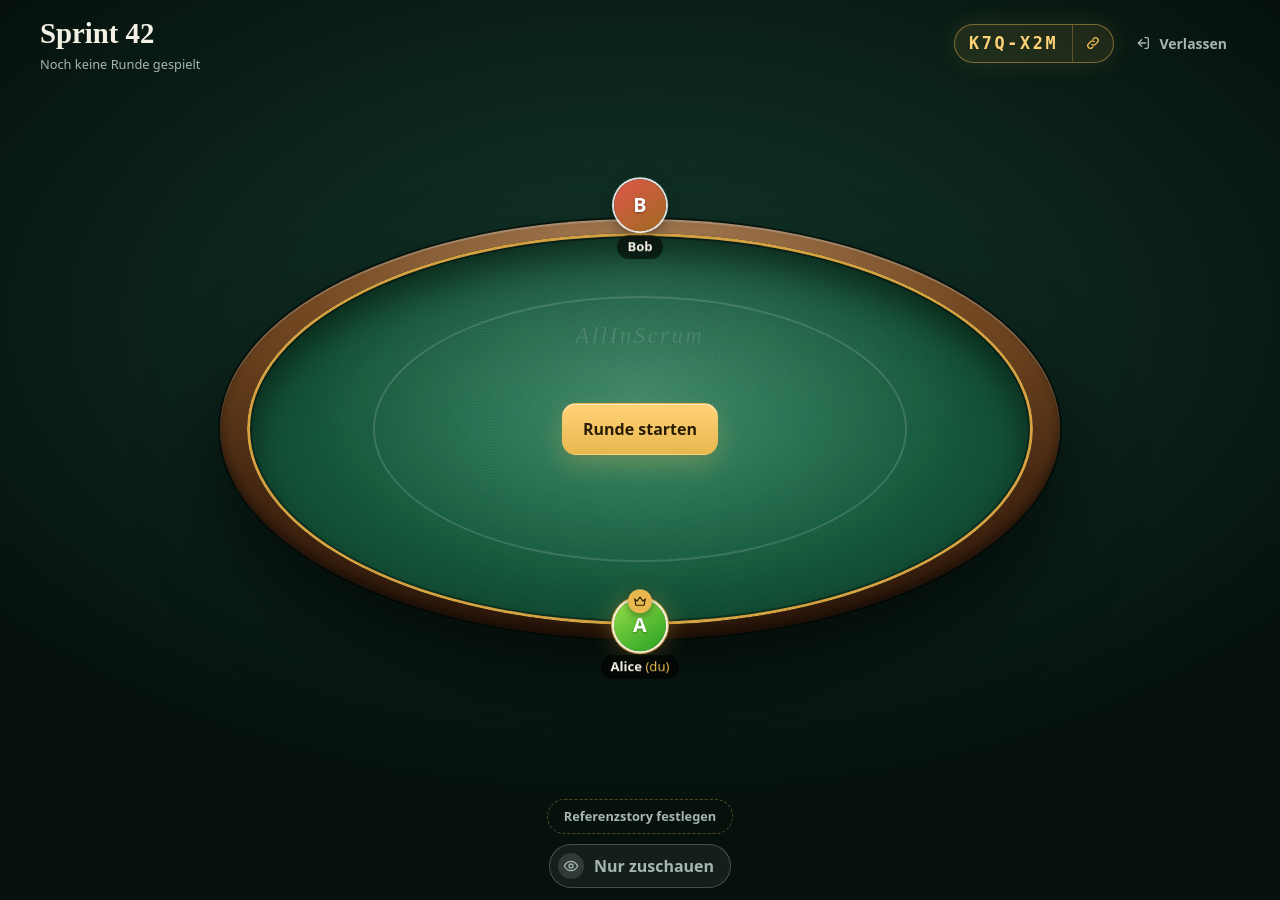
Test: Pokertisch › Einladen › kopiert den Join-Code auch über eine unverschlüsselte Verbindung im LAN
Click the button named "Join-Code K7Q-X2M kopieren" at point(1014, 43), box [955,25,1072,62]
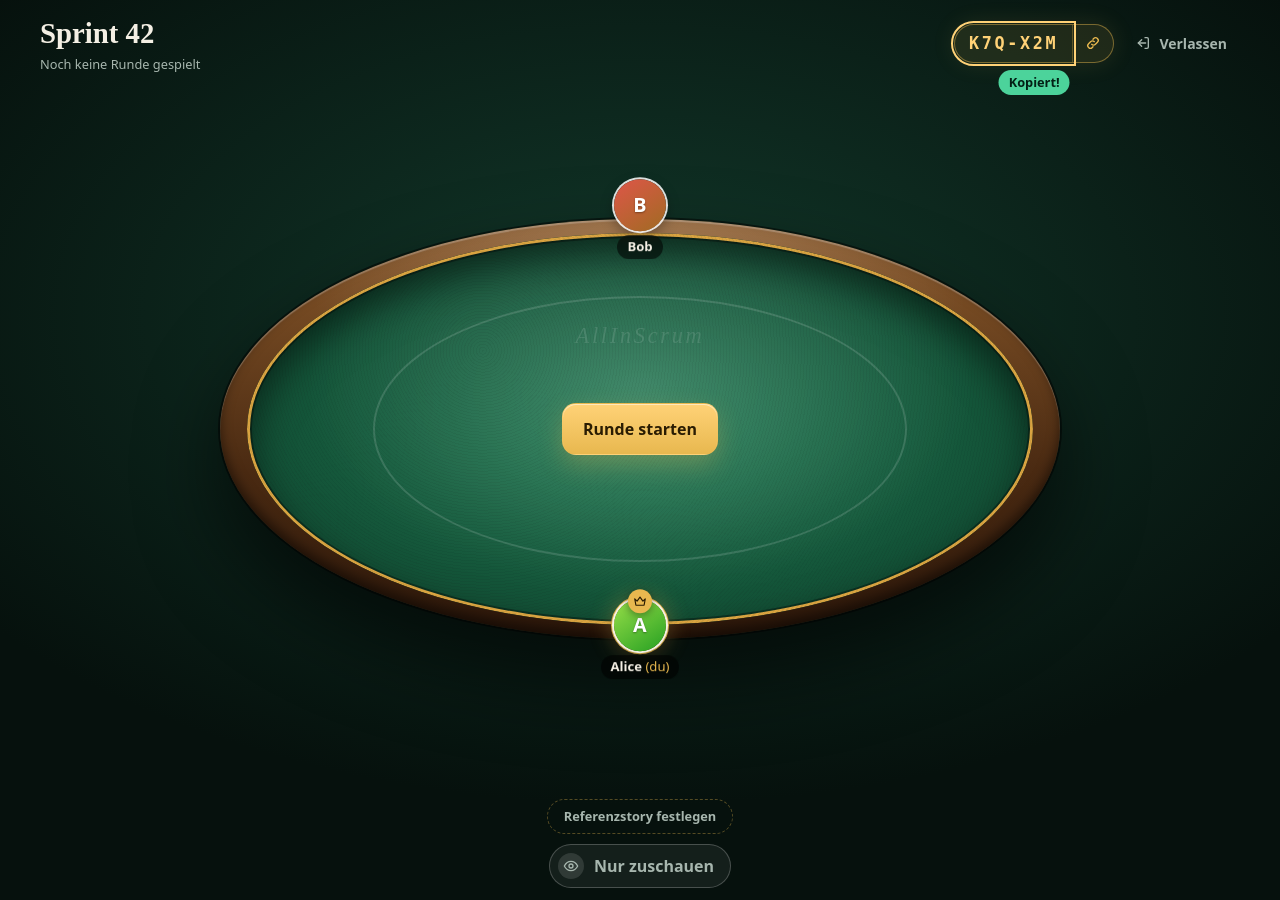
Now the text "Kopiert!" is shown, box [999,70,1070,95]
